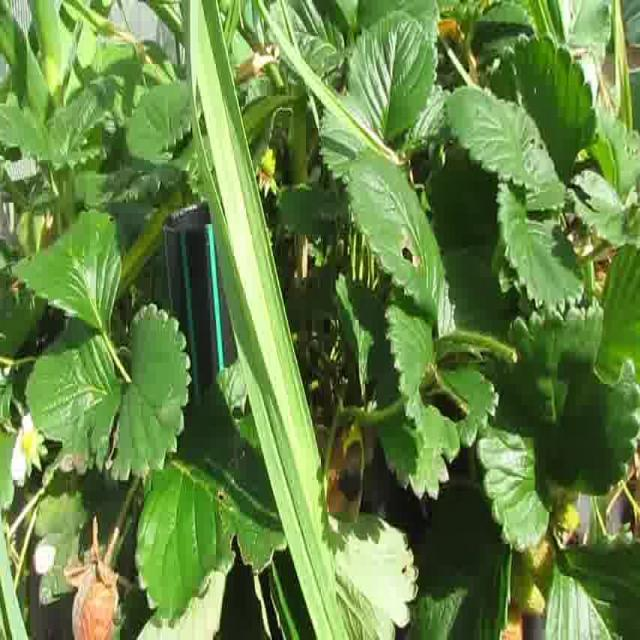Fruta sana: (506, 561, 547, 616), (520, 534, 558, 592), (548, 496, 582, 532), (496, 600, 524, 640), (259, 148, 277, 178), (21, 430, 35, 458)
Moho gris: (63, 559, 119, 640)
